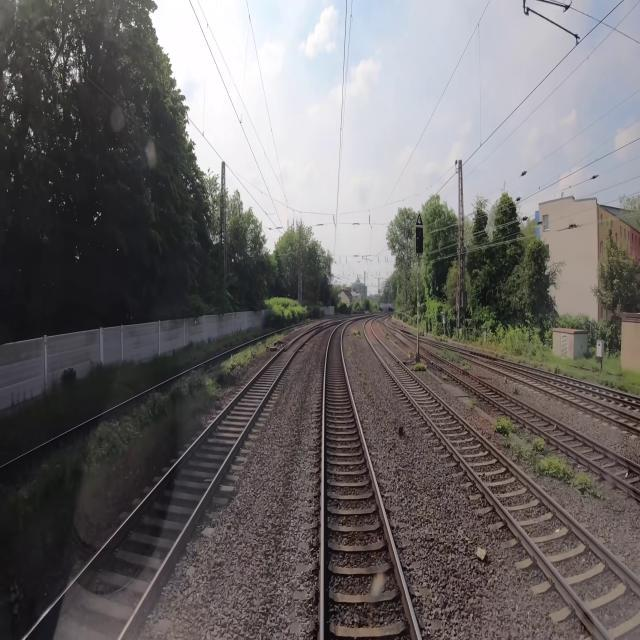Plant: (512, 429, 592, 496), (441, 350, 475, 372), (492, 413, 517, 439), (408, 360, 430, 377), (344, 341, 356, 364), (352, 324, 364, 343), (382, 323, 392, 345), (512, 383, 524, 397), (440, 370, 451, 385), (469, 399, 478, 416), (406, 348, 415, 360)
